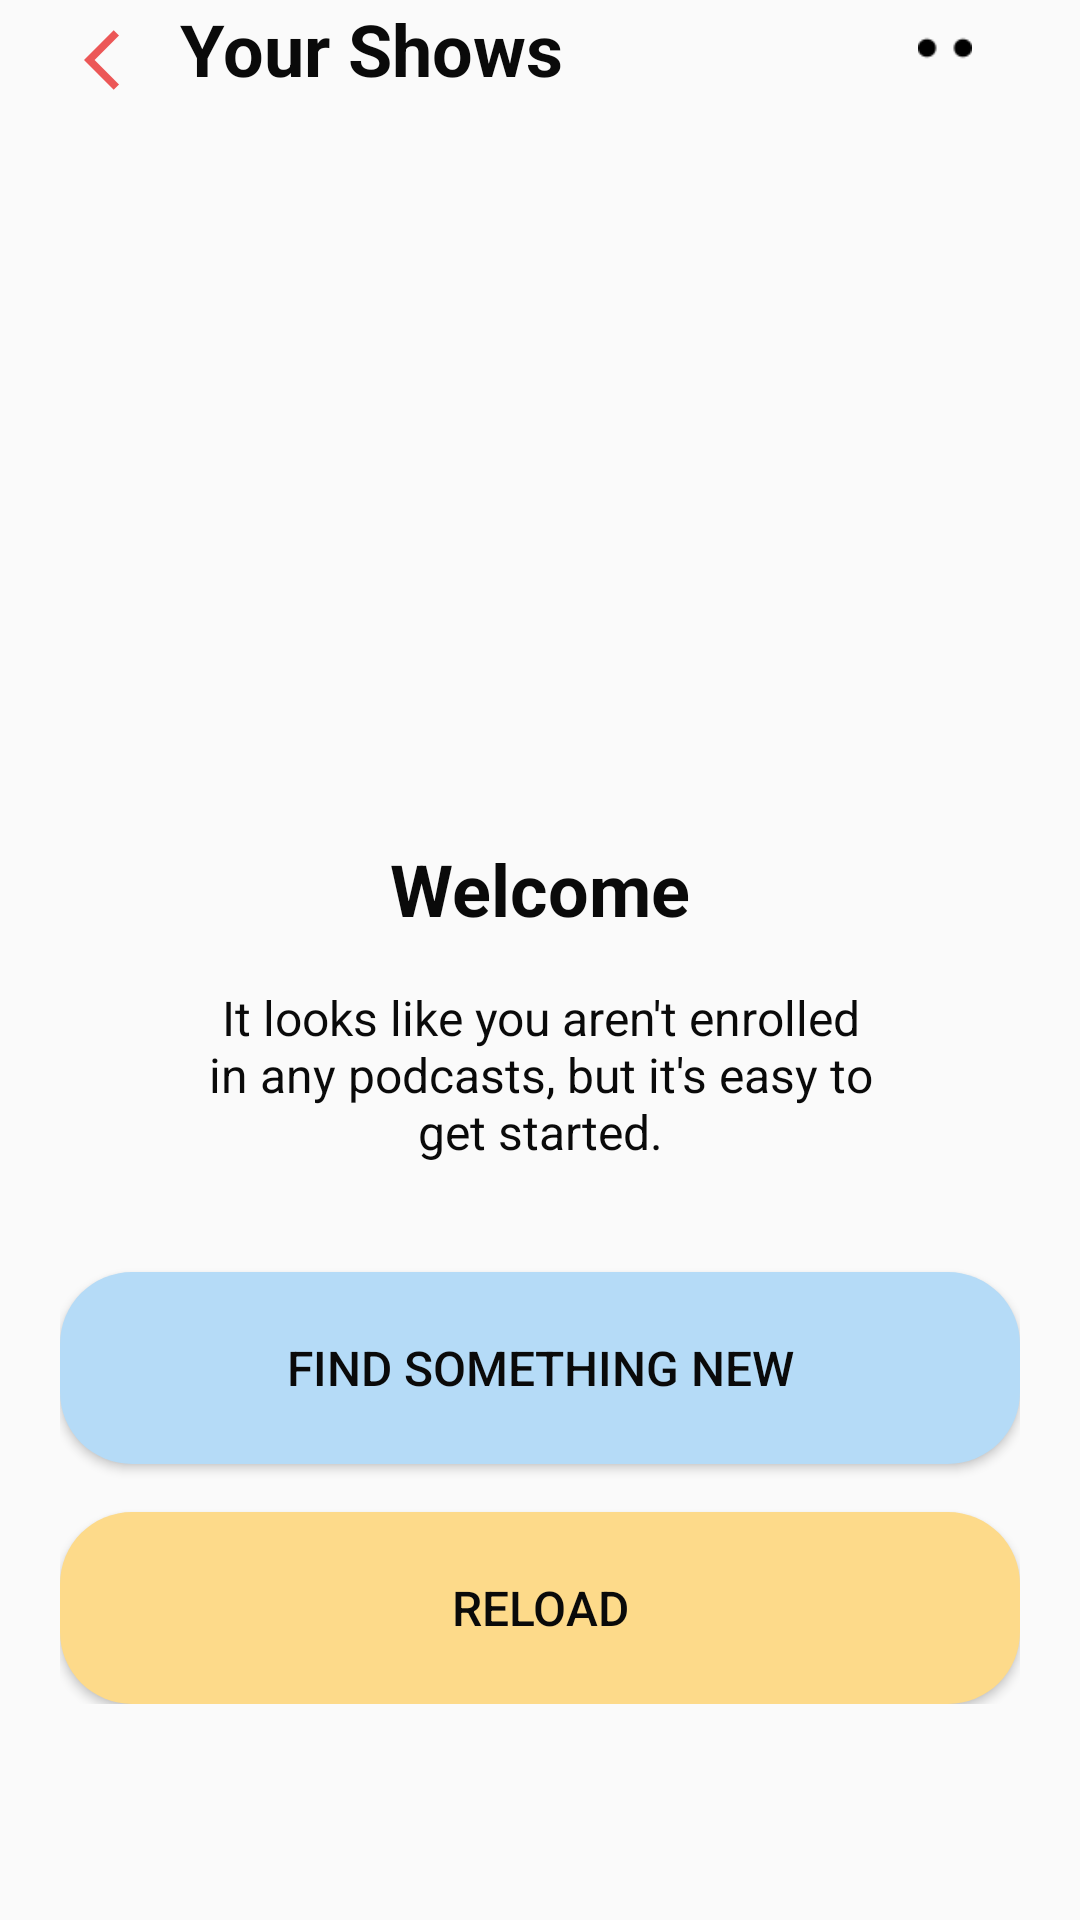

Icon bounding boxes for this 1080 × 1920 phone screenshot, format (x1, y1, x2, y2):
back: (84, 30, 119, 90)
two dots: (918, 38, 972, 58)
